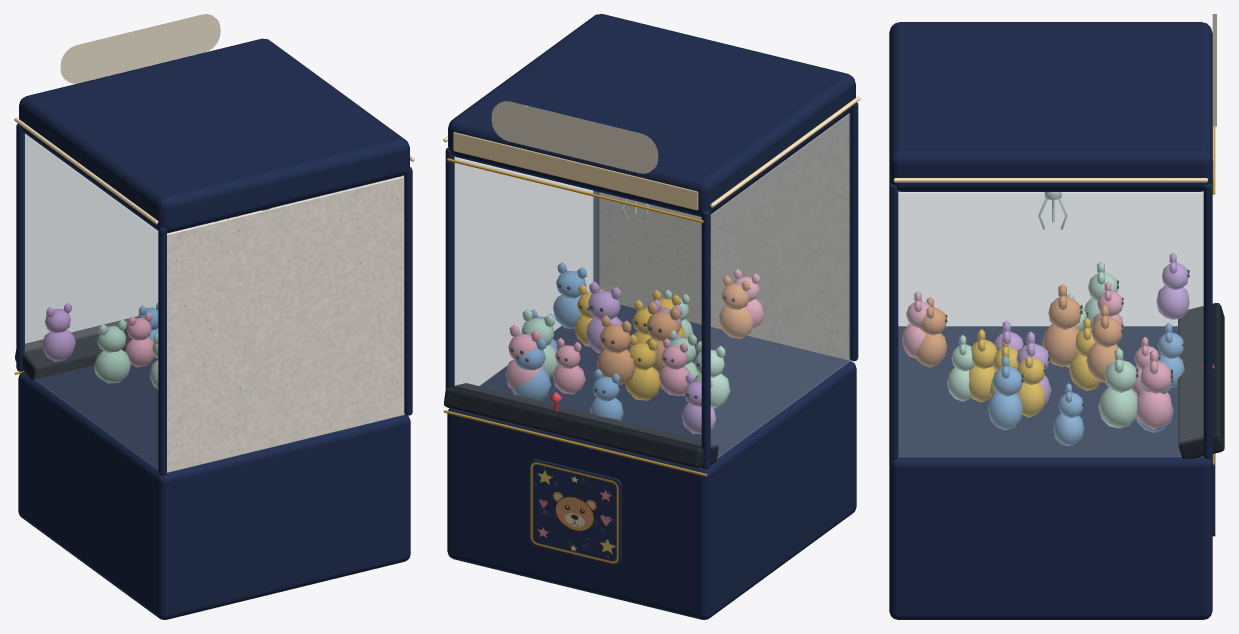
The model's file is claw_T3.fbx.
3 views of the same model, side by side, from view 1: azimuth 30°, elevation 25°; view 2: azimuth 150°, elevation 25°; view 3: azimuth 270°, elevation 25° (orthographic). The views are drawn at different scales.
Parts seen in each view (by area): view 1: Body; view 2: Body; view 3: Body.
Part boxes in pixels (x1,y1,x2,y2): Body: [14, 14, 414, 619]; Body: [443, 14, 860, 619]; Body: [889, 14, 1224, 619].
Bounding box in the file's own units: 1.48 × 2.48 × 1.49.
